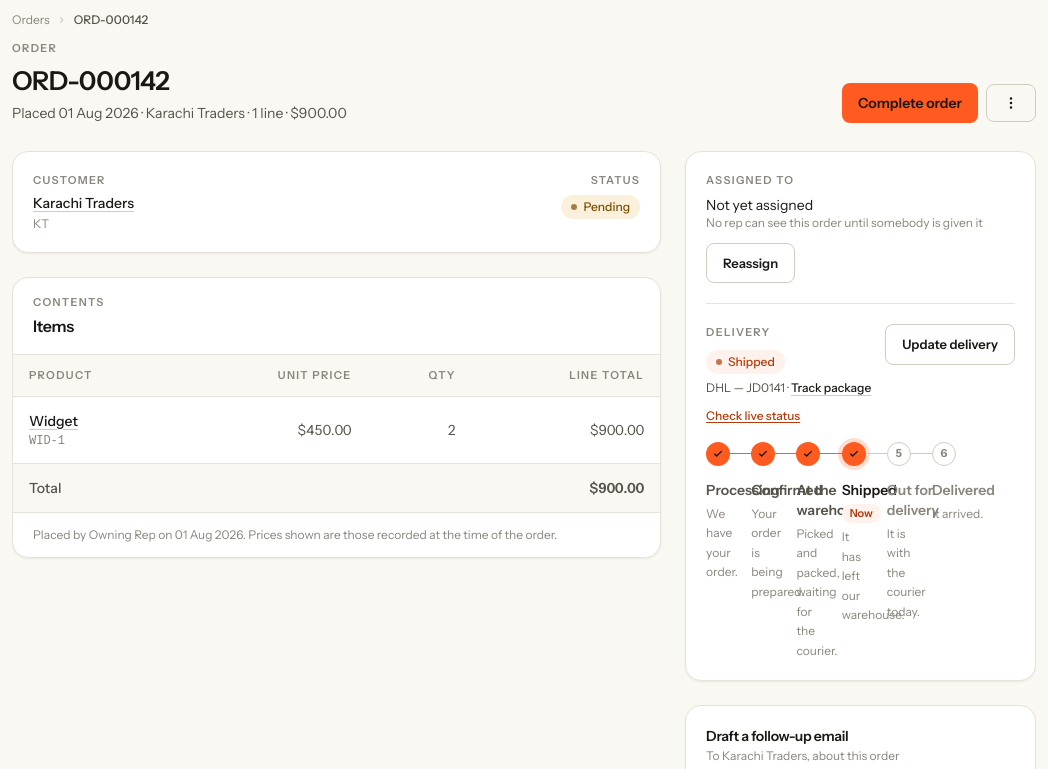
Test case: courier tracking › checks live status through the API and shows what it says
The width and height of the screenshot is (1048, 769).
Click the button "Check live status".
click(753, 416)  # box x1=706 y1=408 x2=800 y2=424
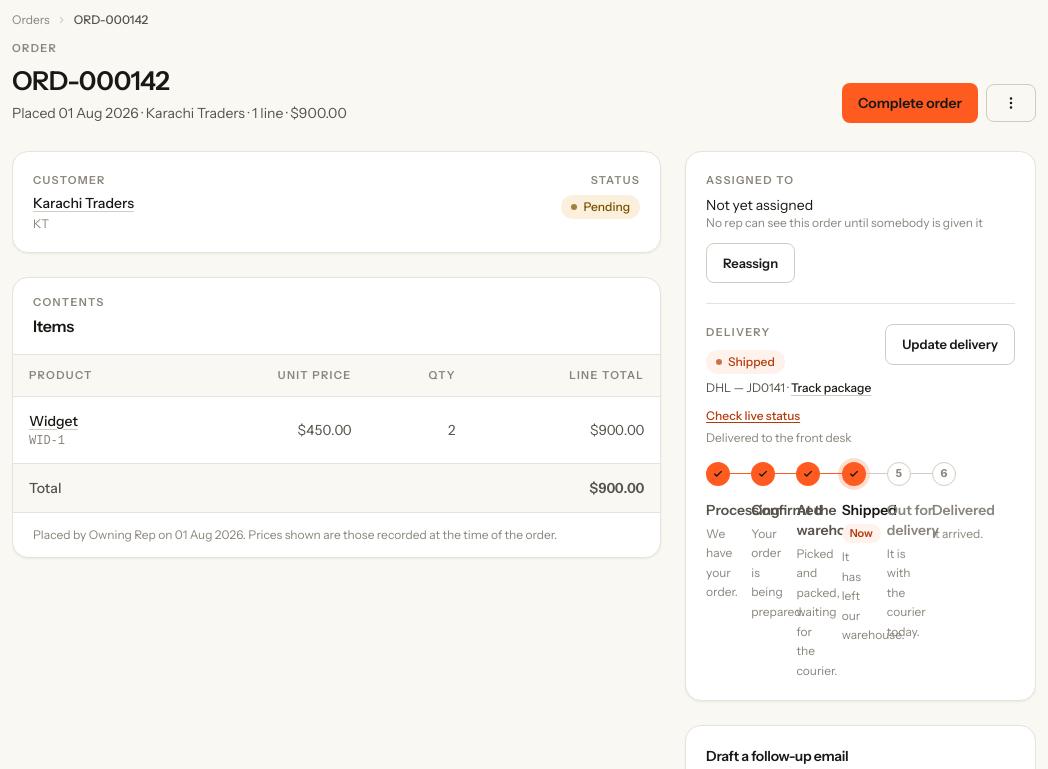
Check: the text "Delivered to the front desk" is shown, box x1=706 y1=430 x2=871 y2=446
